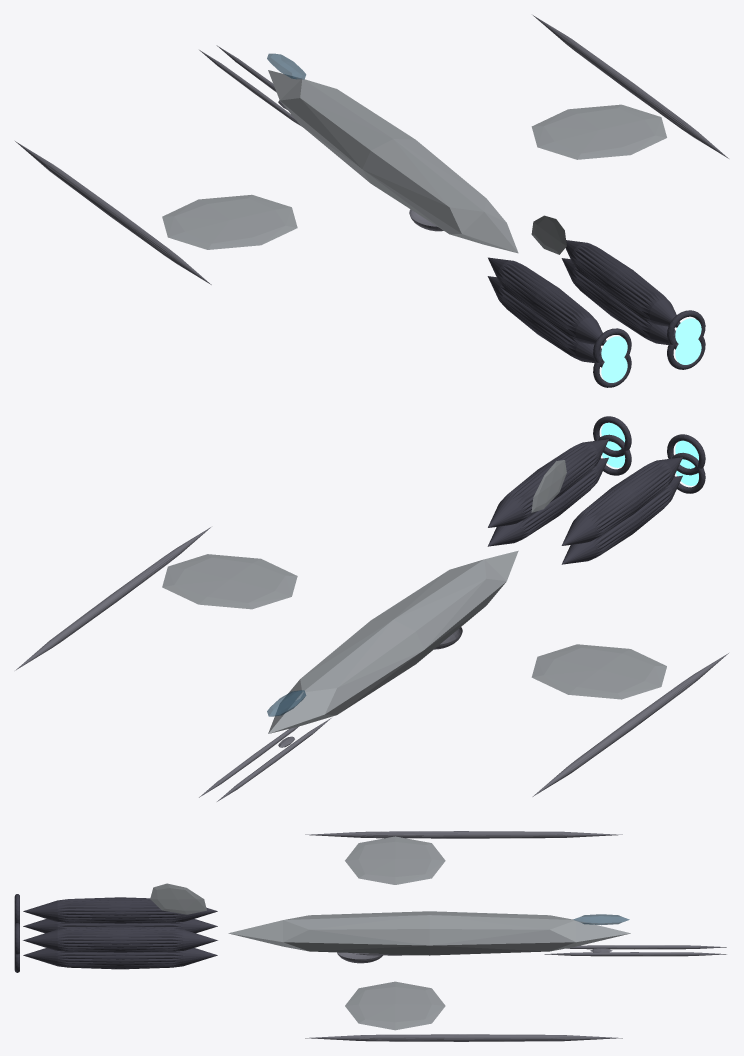
The model's file is viper_fighter_LOD1.fbx.
The picture shows the model from 3 angles, top to bottom: view 1: azimuth 30°, elevation 25°; view 2: azimuth 150°, elevation 25°; view 3: azimuth 270°, elevation 25°; orthographic projection. The views are drawn at different scales.
Parts seen in each view (by area): view 1: Viper_Fighter_LOD1; view 2: Viper_Fighter_LOD1; view 3: Viper_Fighter_LOD1.
Boxes of the visible parts, x1=… form: Viper_Fighter_LOD1: x1=15, y1=15, x2=728, y2=387; Viper_Fighter_LOD1: x1=15, y1=416, x2=728, y2=801; Viper_Fighter_LOD1: x1=14, y1=831, x2=726, y2=1041.
Size of the model in its own units: 7.11 by 1.23 by 10.42.
